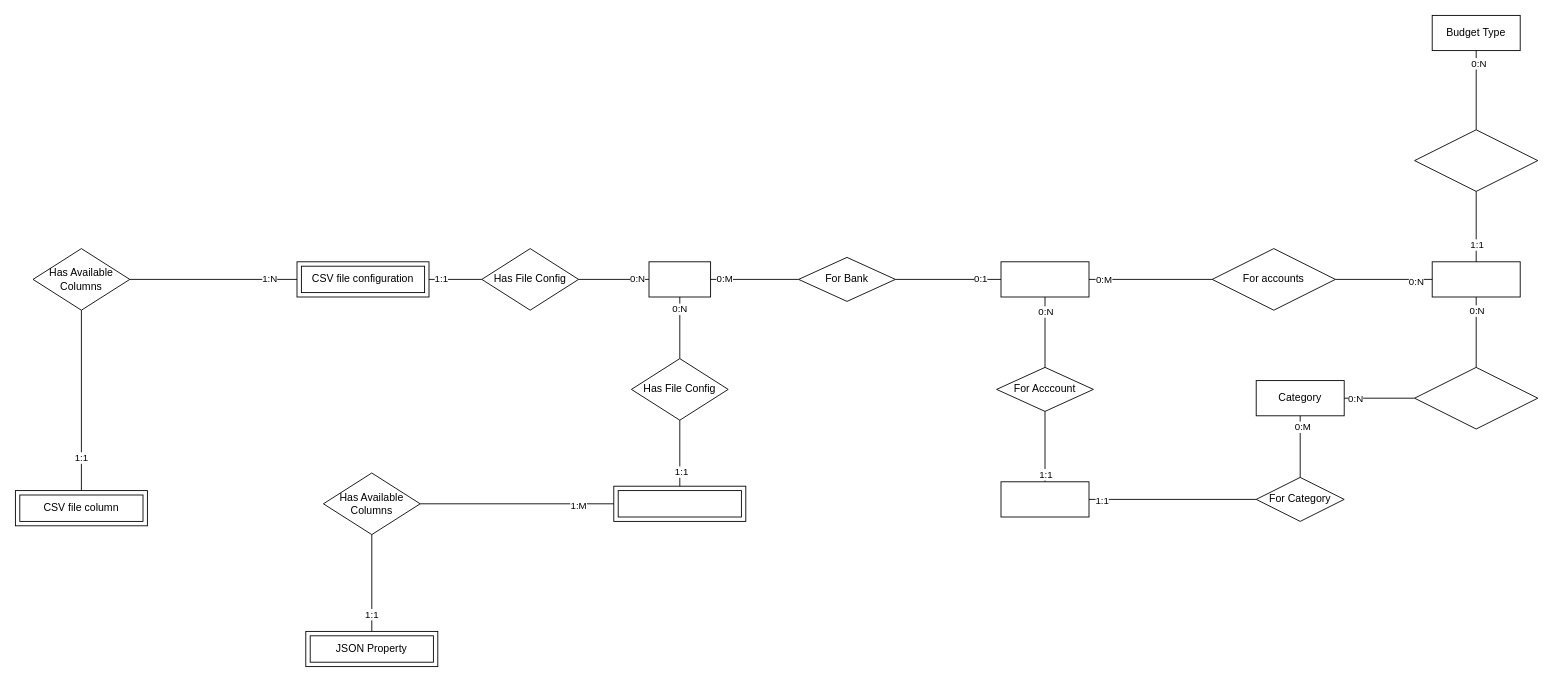
This 1553x682 diagram has some shape labels left out. The shapes that lost their labels are listed below. From the top down, each one's centre as x and y in pixels, then its label:
At point 1476,160: "BudgetType".
At point 679,279: "Bank".
At point 1044,279: "Account".
At point 1475,279: "Budget".
At point 1476,398: "Budget For Category".
At point 679,503: "JSON file configuration".
At point 1044,499: "Transaction".
